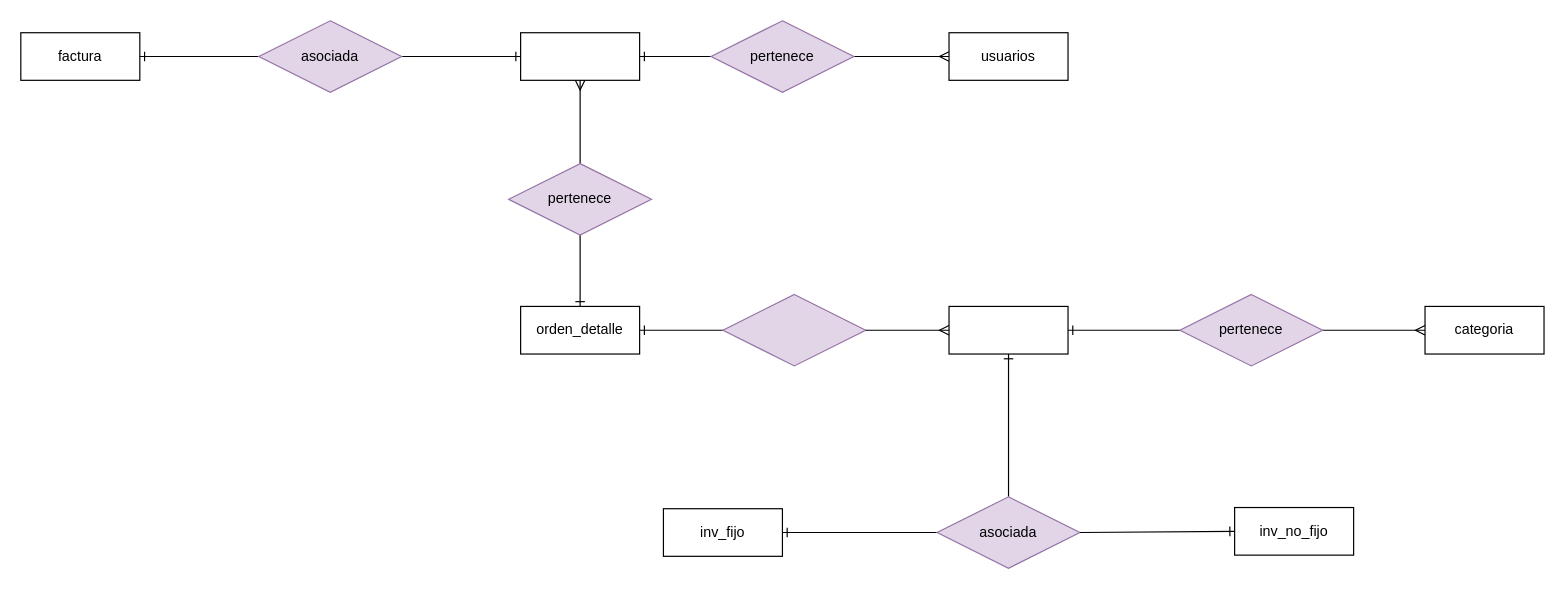
Image size: 1565x589. Some labels were removed from this diagram. The centre of each missing label's shape, as x and y in pixels:
incluye: the point at 794,329
ordenes: the point at 579,56
producto: the point at 1008,329
